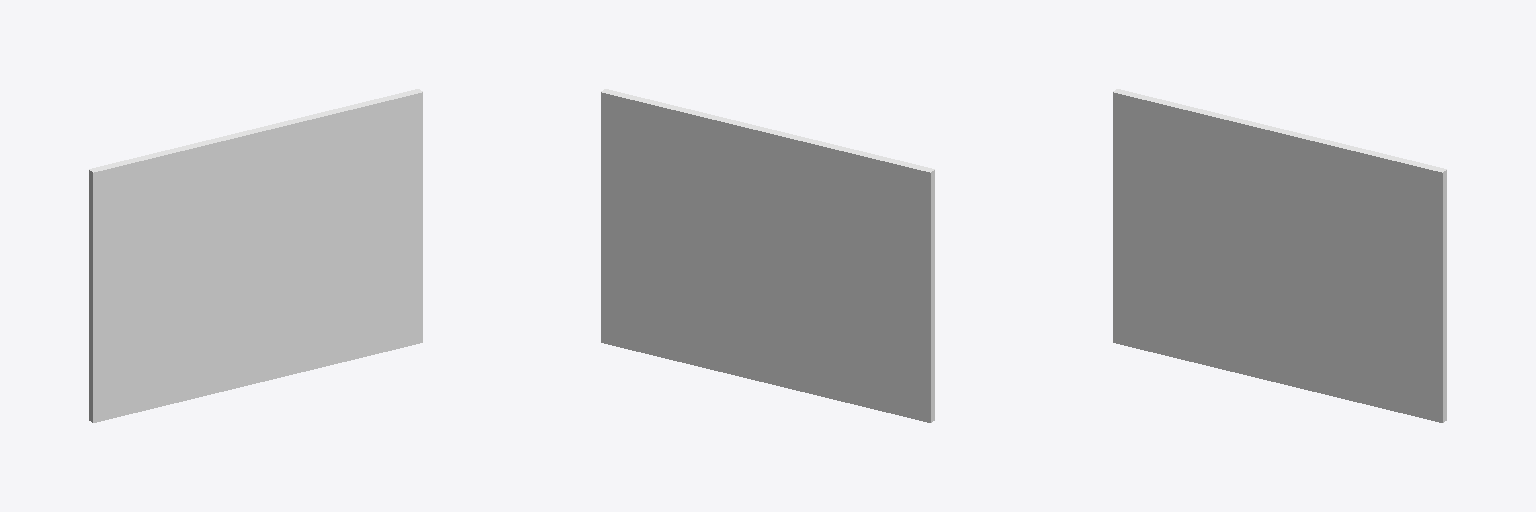
Rendered from floor-3.obj.
3 renders of one model, left to right at view 1: azimuth 30°, elevation 25°; view 2: azimuth 150°, elevation 25°; view 3: azimuth 330°, elevation 25°, orthographic.
Parts seen in each view (by area): view 1: object 1; view 2: object 1; view 3: object 1.
Part boxes in pixels (bbox=[...]): object 1: bbox=[89, 89, 422, 422]; object 1: bbox=[601, 89, 934, 422]; object 1: bbox=[1113, 89, 1446, 422].
Size of the model in its own units: 4 by 2.9 by 0.1.